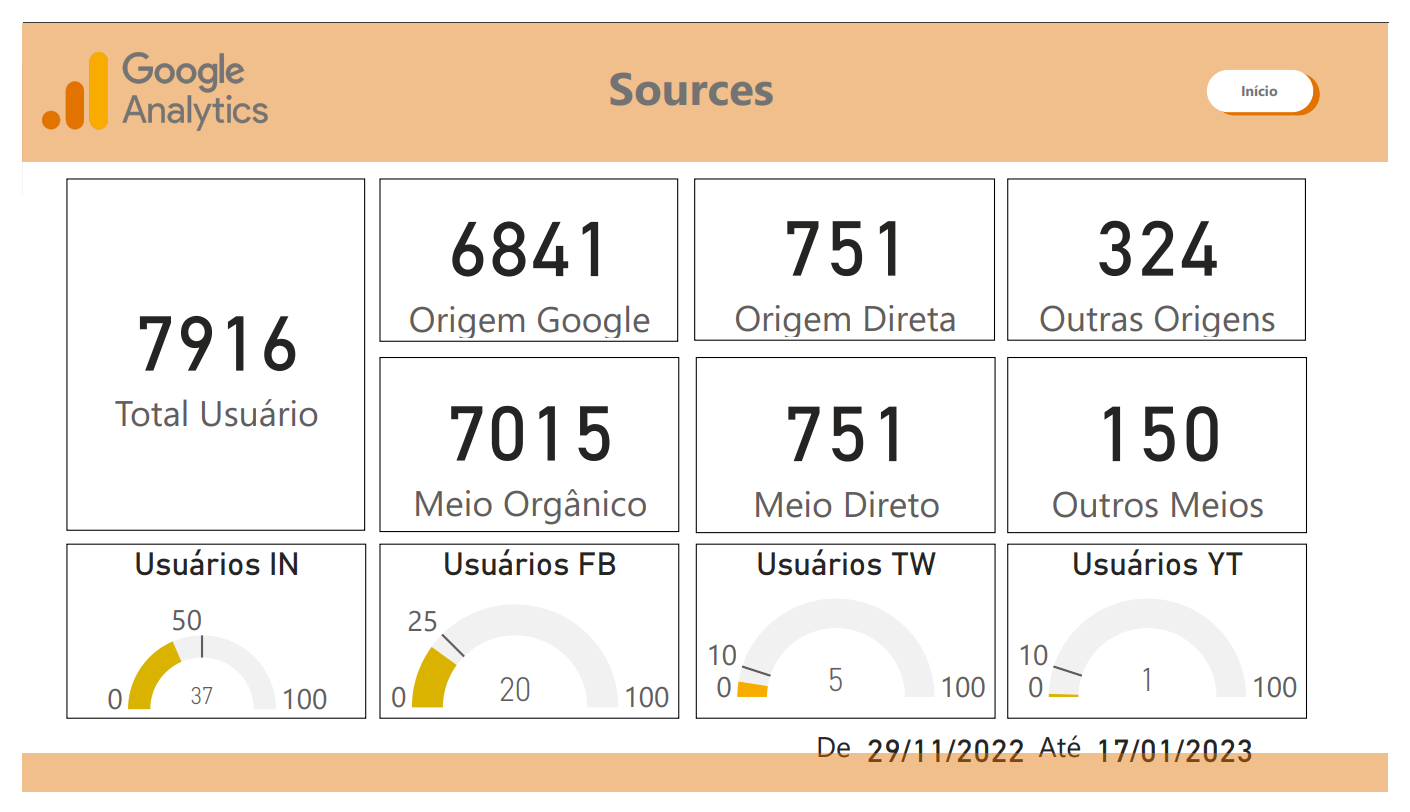

This screenshot's page, from the dashboard's own definition file:
{"tool":"powerbi","page":{"name":"Sources","canvas":[1280,720],"ordinal":2},"visuals":[{"type":"shape","box":[0,0,1280,130],"z":0},{"type":"card","fields":{"Values":["Sum(traffic_sources.ga_users)"]},"box":[41.7,146.7,280,330],"z":1000},{"type":"card","fields":{"Values":["Sum(traffic_sources.ga_users)"]},"box":[335,146.7,280,153.3],"z":2000},{"type":"card","fields":{"Values":["Sum(traffic_sources.ga_users)"]},"box":[630,146.7,281.7,151.7],"z":3000},{"type":"card","fields":{"Values":["Sum(traffic_sources.ga_users)"]},"box":[923.3,146.7,280,151.7],"z":4000},{"type":"card","fields":{"Values":["Sum(traffic_sources.ga_users)"]},"box":[334.9,312.9,280.6,164.2],"z":5000},{"type":"card","fields":{"Values":["Sum(traffic_sources.ga_users)"]},"box":[630.7,312.5,280.5,164.6],"z":6000},{"type":"card","fields":{"Values":["Sum(traffic_sources.ga_users)"]},"box":[923,312.5,280.5,164.6],"z":7000},{"type":"gauge","title":"Usuários IN","fields":{"Y":["Sum(traffic_sources.ga_users)"]},"box":[41.4,487.4,280.6,164.2],"z":8000},{"type":"gauge","title":"Usuários FB","fields":{"Y":["Sum(traffic_sources.ga_users)"]},"box":[334.9,487.4,280.6,164.2],"z":9000},{"type":"gauge","title":"Usuários TW","fields":{"Y":["Sum(traffic_sources.ga_users)"]},"box":[630.9,487.4,280.6,164.2],"z":10000},{"type":"card","fields":{"Values":["Max(traffic_sources.ga_date)"]},"box":[986,651.8,186.5,55.4],"z":11000},{"type":"gauge","title":"Usuários YT","fields":{"Y":["Sum(traffic_sources.ga_users)"]},"box":[923.2,487.4,280.6,164.2],"z":12000},{"type":"card","fields":{"Values":["Min(traffic_sources.ga_date)"]},"box":[773,651.8,186.5,55.4],"z":13000},{"type":"textbox","box":[739.6,652.9,51.7,54.3],"z":14000},{"type":"textbox","box":[947.7,652.9,59.5,54.3],"z":15000},{"type":"image","box":[14.2,0,221.1,129.3],"z":16000},{"type":"textbox","box":[534,25.9,210.7,76.3],"z":17000},{"type":"actionButton","box":[1115.8,47.8,99.6,40.1],"z":18000},{"type":"actionButton","box":[1109.3,44,99.6,40.1],"z":19000},{"type":"shape","box":[0,683.3,1280,36.7],"z":20000}]}

Visuals, with their boxes in screenshot pixels (x1, y1, x2, y2), scaled from the page's 1280x720 canvas onto the 1410x812 screenshot:
shape: l=0, t=0, r=1409, b=147
card - Sum(traffic_sources.ga_users): l=46, t=165, r=354, b=538
card - Sum(traffic_sources.ga_users): l=369, t=165, r=677, b=338
card - Sum(traffic_sources.ga_users): l=694, t=165, r=1004, b=337
card - Sum(traffic_sources.ga_users): l=1017, t=165, r=1326, b=337
card - Sum(traffic_sources.ga_users): l=369, t=353, r=678, b=538
card - Sum(traffic_sources.ga_users): l=695, t=352, r=1004, b=538
card - Sum(traffic_sources.ga_users): l=1017, t=352, r=1326, b=538
"Usuários IN" gauge: l=46, t=550, r=355, b=735
"Usuários FB" gauge: l=369, t=550, r=678, b=735
"Usuários TW" gauge: l=695, t=550, r=1004, b=735
card - Max(traffic_sources.ga_date): l=1086, t=735, r=1292, b=798
"Usuários YT" gauge: l=1017, t=550, r=1326, b=735
card - Min(traffic_sources.ga_date): l=852, t=735, r=1057, b=798
textbox: l=815, t=736, r=872, b=798
textbox: l=1044, t=736, r=1109, b=798
image: l=16, t=0, r=259, b=146
textbox: l=588, t=29, r=820, b=115
actionButton: l=1229, t=54, r=1339, b=99
actionButton: l=1222, t=50, r=1332, b=95
shape: l=0, t=771, r=1409, b=811
